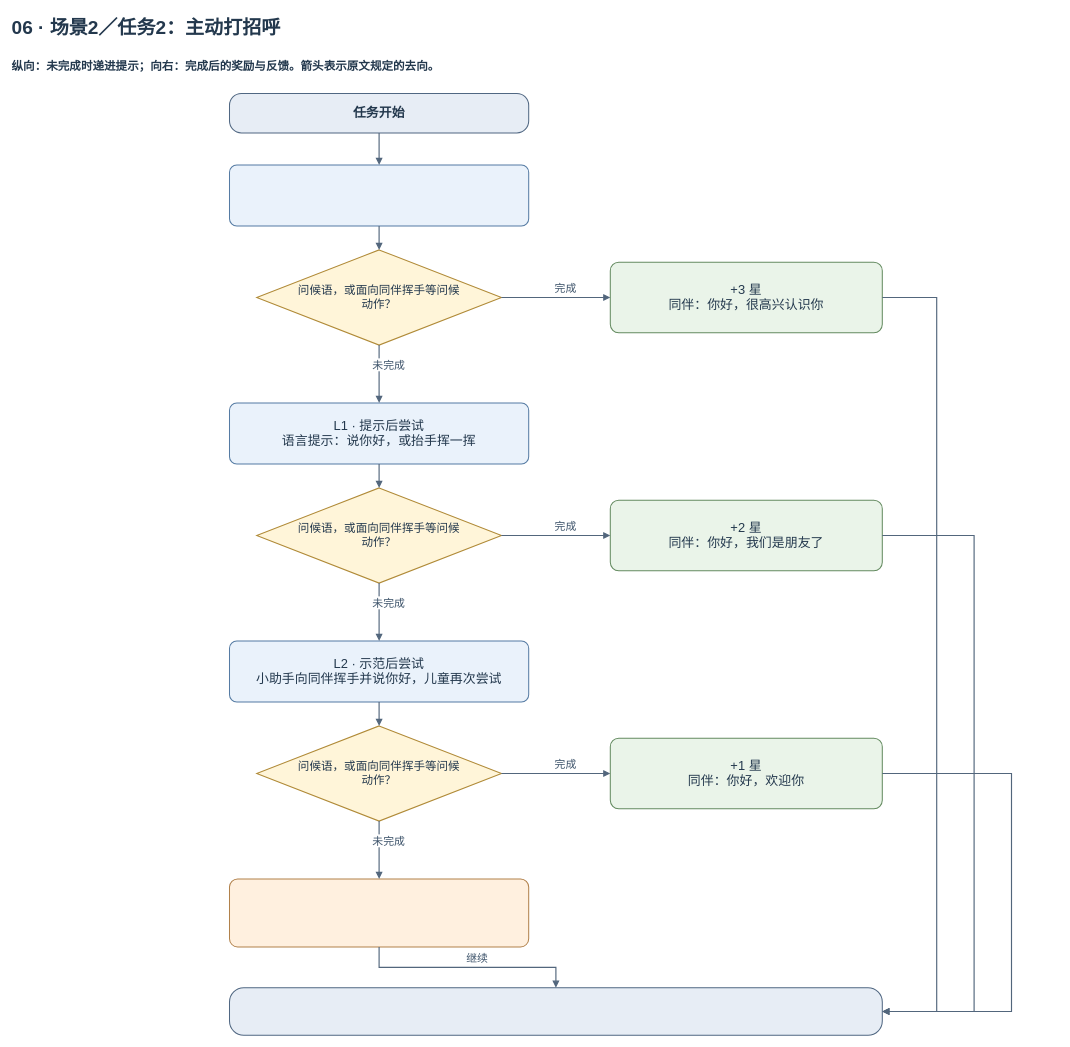
Image size: 1070x1047. Some labels were removed from this diagram. The centre of each missing label's shape, as x and y in pixels:
L0 · 自主尝试 说“你好／嗨”，或面向同伴挥手: (x=379, y=195)
L3 · 系统辅助 辅助化身挥手＋播放问候语；同伴友好回应 0 星: (x=379, y=912)
场景2结束：同伴邀请去看游戏 → 场景3: (x=556, y=1011)
